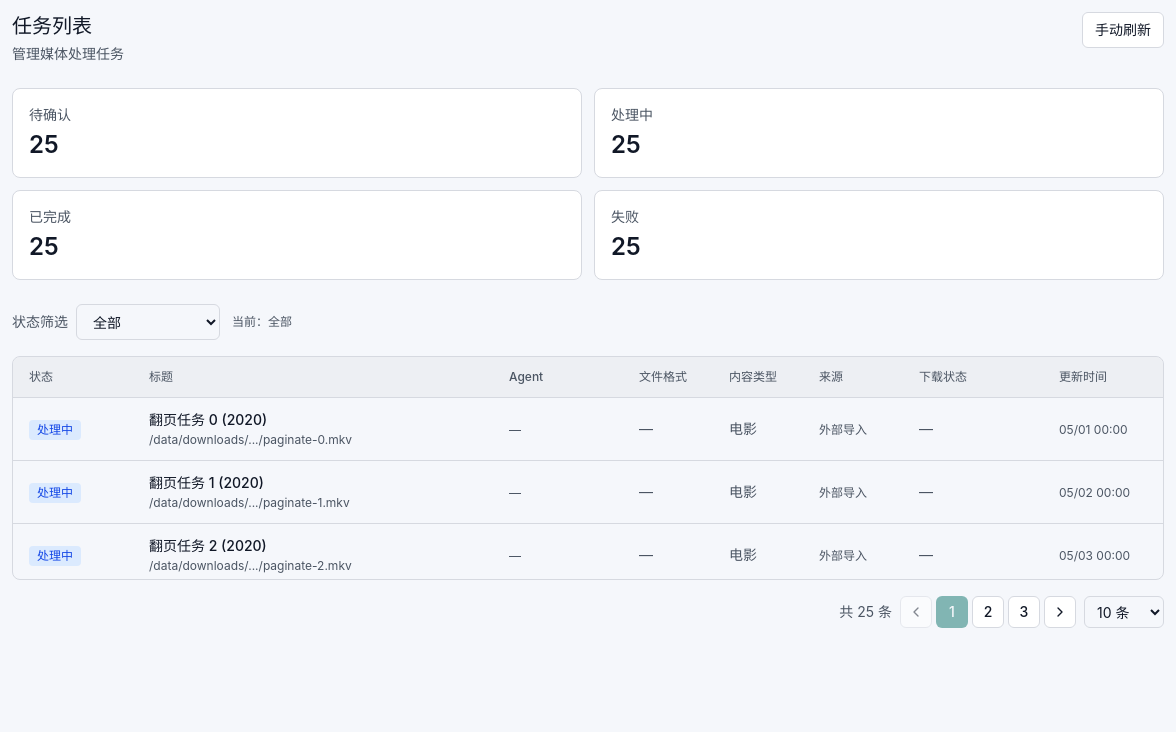
Test: TaskListPage › paginates tasks and allows switching pages
This screenshot has width=1176, height=732.
expect the link "翻页任务 0 (2020)" is shown: met, box [149,410,267,430]
What coordinates should you click on to do the following:
click the button named "下一页"
I would click on:
 (1060, 612)
Its box is [1044,596,1076,628].
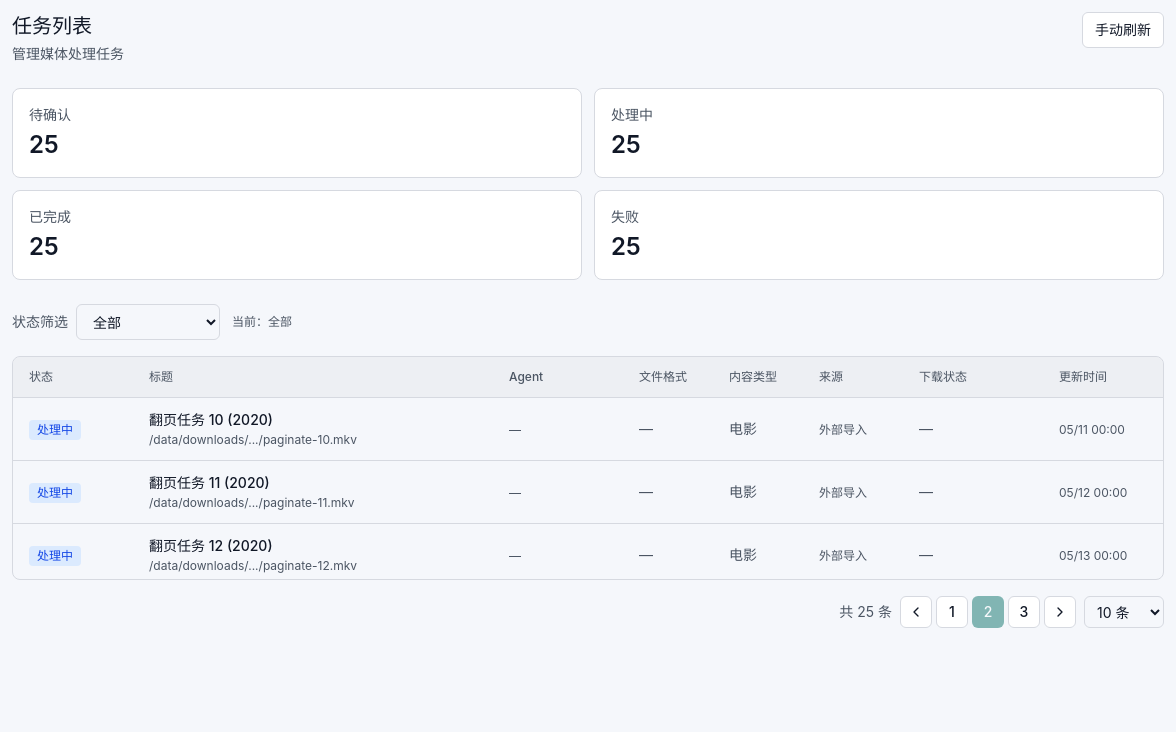
expect the link "翻页任务 10 (2020)" is shown: met, box [149,410,273,430]
expect no links "翻页任务 0 (2020)" are shown: met
